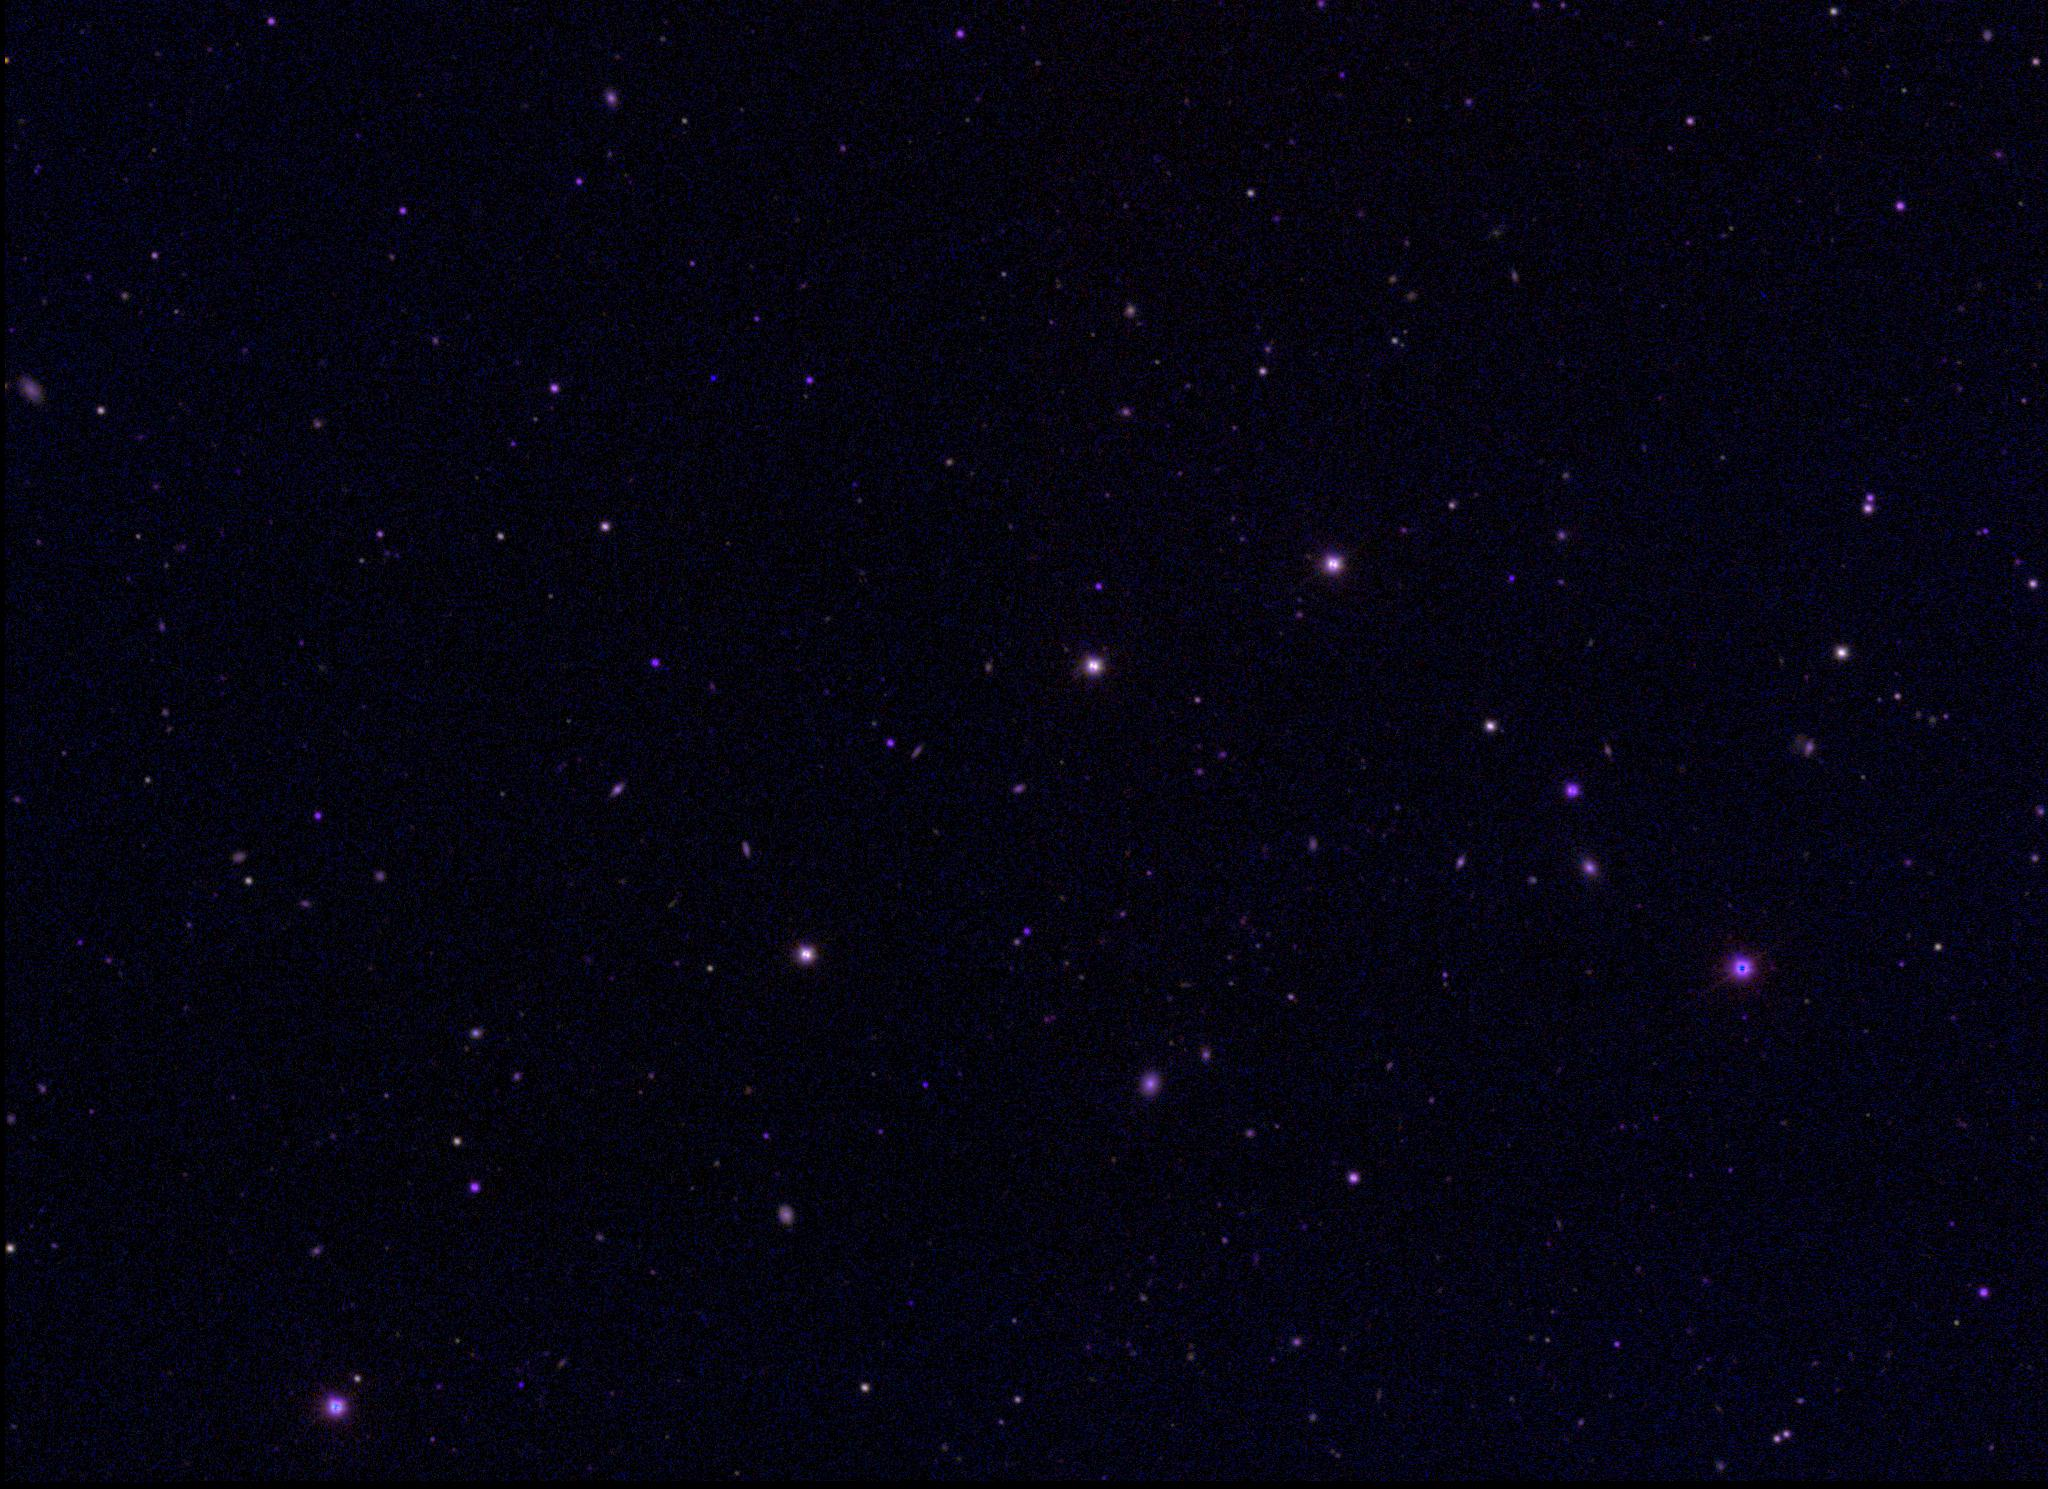L: (706, 371, 720, 383)
